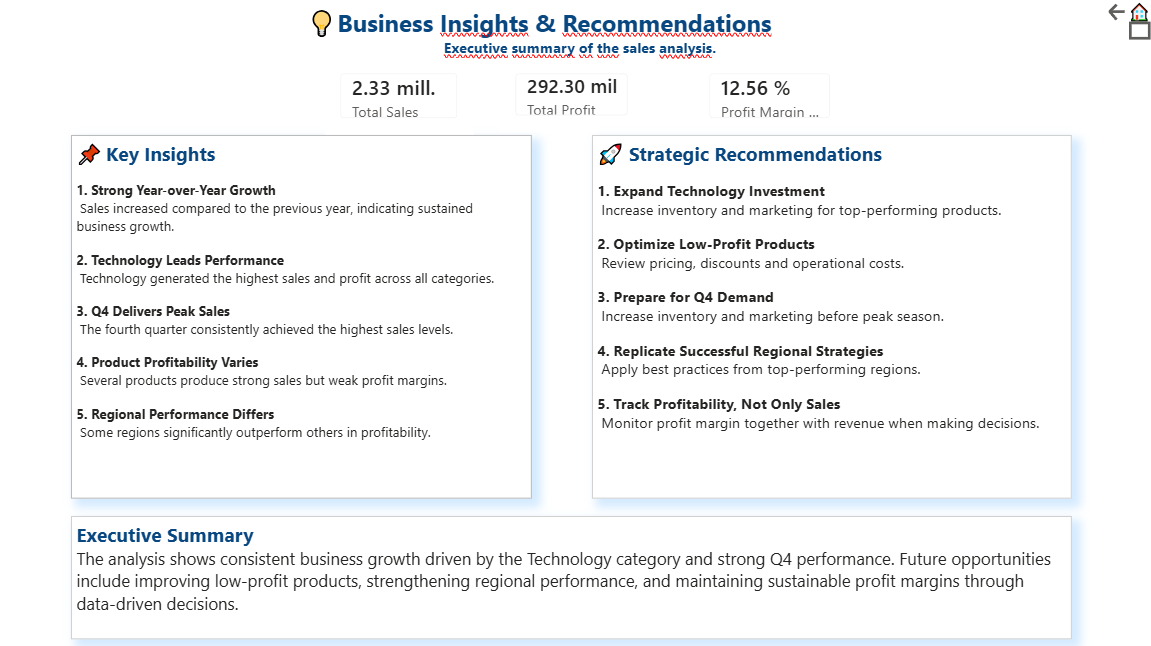

What the dashboard file says about the page in this screenshot:
{"tool":"powerbi","page":{"name":"Insights","canvas":[1280,720],"ordinal":5},"visuals":[{"type":"actionButton","box":[1229,0,27,27],"z":0},{"type":"actionButton","title":"🏠","box":[1256,0,24,44],"z":1000},{"type":"textbox","box":[339.7,1,593.3,63.9],"z":2000},{"type":"textbox","box":[79.7,149.9,511.6,403.6],"z":3000},{"type":"cardVisual","fields":{"Data":["Orders.Total Sales"]},"box":[362.7,65,164.6,84.9],"z":4000},{"type":"cardVisual","fields":{"Data":["Orders.Total Profit"]},"box":[556.7,65,159.3,81.8],"z":5000},{"type":"cardVisual","fields":{"Data":["Orders.Profit Margin %"]},"box":[772.6,65,168.8,84.9],"z":6000},{"type":"textbox","box":[659.4,149.9,532.5,403.6],"z":7000},{"type":"textbox","box":[79.7,573.4,1112.3,137.3],"z":8000}]}

Visuals, with their boxes on the page's 1280x720 design canvas (x1, y1, x2, y2). These are canvas units, not pixel positions in the 1151x646 screenshot, which may show the page scaled, cropped or inside an application window:
actionButton: {"left": 1229, "top": 0, "right": 1256, "bottom": 27}
"🏠" actionButton: {"left": 1256, "top": 0, "right": 1280, "bottom": 44}
textbox: {"left": 340, "top": 1, "right": 933, "bottom": 65}
textbox: {"left": 80, "top": 150, "right": 591, "bottom": 554}
cardVisual - Orders.Total Sales: {"left": 363, "top": 65, "right": 527, "bottom": 150}
cardVisual - Orders.Total Profit: {"left": 557, "top": 65, "right": 716, "bottom": 147}
cardVisual - Orders.Profit Margin %: {"left": 773, "top": 65, "right": 941, "bottom": 150}
textbox: {"left": 659, "top": 150, "right": 1192, "bottom": 554}
textbox: {"left": 80, "top": 573, "right": 1192, "bottom": 711}
